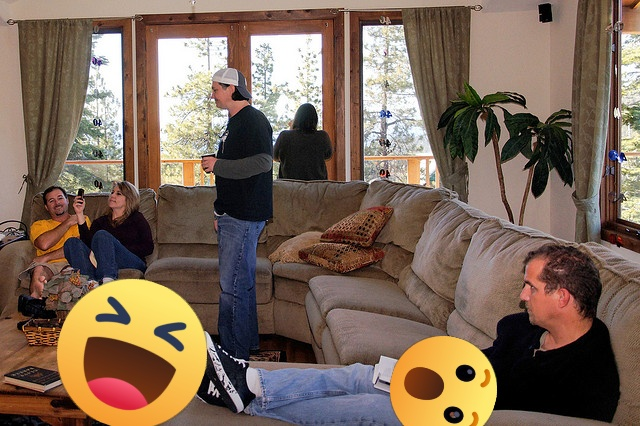haha: (57, 279, 207, 426)
wow: (390, 336, 497, 426)
